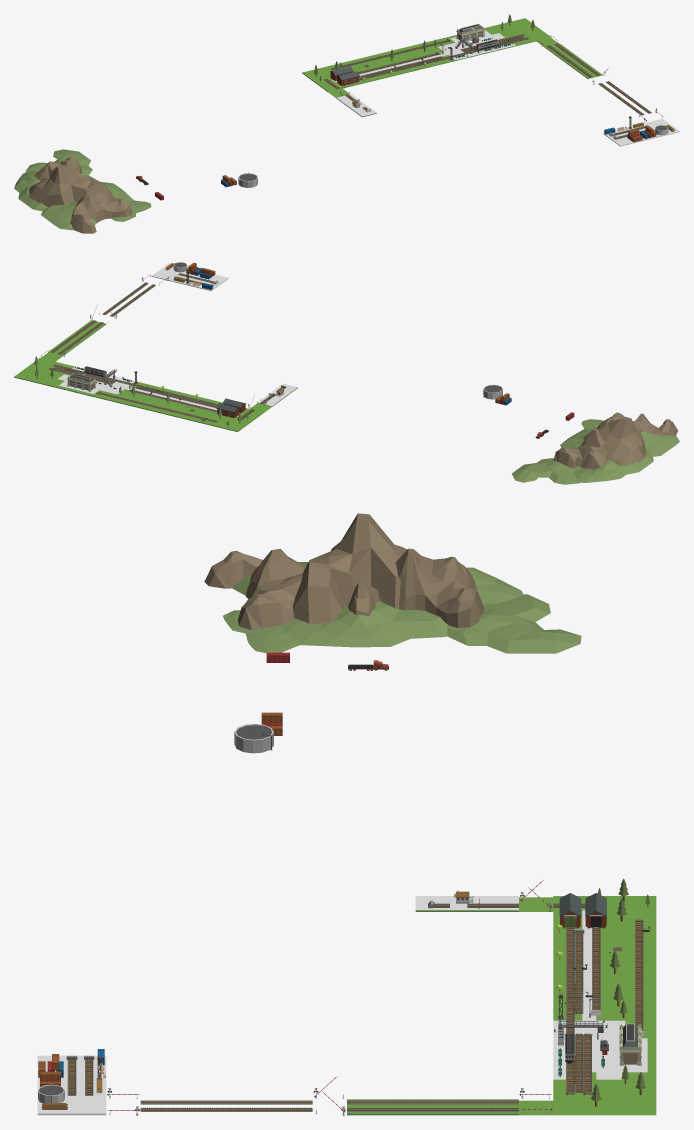
File: Trains_hub.FBX
3 views of the same model, one above another, from view 1: azimuth 30°, elevation 25°; view 2: azimuth 150°, elevation 25°; view 3: azimuth 270°, elevation 25° (orthographic). The views are drawn at different scales.
Visible parts, largest first — view 1: Grass, SM_Env_Hills_02, SM_Env_Hills_01, SM_Env_Hills_09, SM_Env_Hills_10, SM_Env_Hills_08, Ground (2), SM_Env_Hills_03, SM_Bld_Station_Large_02, SM_Env_Hills_04; view 2: Grass, SM_Env_Hills_02, SM_Env_Hills_03, SM_Env_Hills_08, SM_Env_Hills_10, Ground (2), SM_Env_Hills_09, SM_Env_Hills_01, SM_Bld_Station_Large_02, SM_Env_Hills_11; view 3: Grass, SM_Env_Hills_02, SM_Env_Hills_03, SM_Env_Hills_01, SM_Env_Hills_11, SM_Env_Hills_08, Ground (2), SM_Env_Hills_04, SM_Env_Hills_10, SM_Bld_Silo_02, SM_Bld_Station_Large_02.
Part boxes in pixels (x1=…): Grass: x1=302, y1=18, x2=602, y2=117; SM_Env_Hills_02: x1=29, y1=165, x2=115, y2=207; SM_Env_Hills_01: x1=70, y1=192, x2=131, y2=233; SM_Env_Hills_09: x1=41, y1=201, x2=96, y2=230; SM_Env_Hills_10: x1=14, y1=171, x2=48, y2=211; SM_Env_Hills_08: x1=25, y1=149, x2=92, y2=175; Ground (2): x1=603, y1=119, x2=679, y2=146; SM_Env_Hills_03: x1=33, y1=157, x2=94, y2=180; SM_Bld_Station_Large_02: x1=456, y1=24, x2=485, y2=40; SM_Env_Hills_04: x1=111, y1=200, x2=151, y2=221; Grass: x1=14, y1=320, x2=297, y2=431; SM_Env_Hills_02: x1=596, y1=415, x2=645, y2=465; SM_Env_Hills_03: x1=553, y1=428, x2=607, y2=469; SM_Env_Hills_08: x1=512, y1=458, x2=580, y2=484; SM_Env_Hills_10: x1=574, y1=454, x2=653, y2=482; Ground (2): x1=151, y1=263, x2=228, y2=291; SM_Env_Hills_09: x1=640, y1=431, x2=679, y2=456; SM_Env_Hills_01: x1=613, y1=412, x2=677, y2=435; SM_Bld_Station_Large_02: x1=67, y1=373, x2=96, y2=391; SM_Env_Hills_11: x1=560, y1=428, x2=596, y2=470; Grass: x1=347, y1=896, x2=656, y2=1115; SM_Env_Hills_02: x1=293, y1=513, x2=406, y2=623; SM_Env_Hills_03: x1=348, y1=548, x2=483, y2=627; SM_Env_Hills_01: x1=204, y1=548, x2=305, y2=629; SM_Env_Hills_11: x1=280, y1=600, x2=486, y2=647; SM_Env_Hills_08: x1=447, y1=594, x2=581, y2=653; Ground (2): x1=37, y1=1055, x2=106, y2=1115; SM_Env_Hills_04: x1=223, y1=610, x2=299, y2=653; SM_Env_Hills_10: x1=466, y1=567, x2=523, y2=603; SM_Bld_Silo_02: x1=234, y1=723, x2=273, y2=753; SM_Bld_Station_Large_02: x1=619, y1=1023, x2=641, y2=1065.
Bounding box in the file's own units: 762347 × 48164 × 360000.
8 materials, 7 textured.
